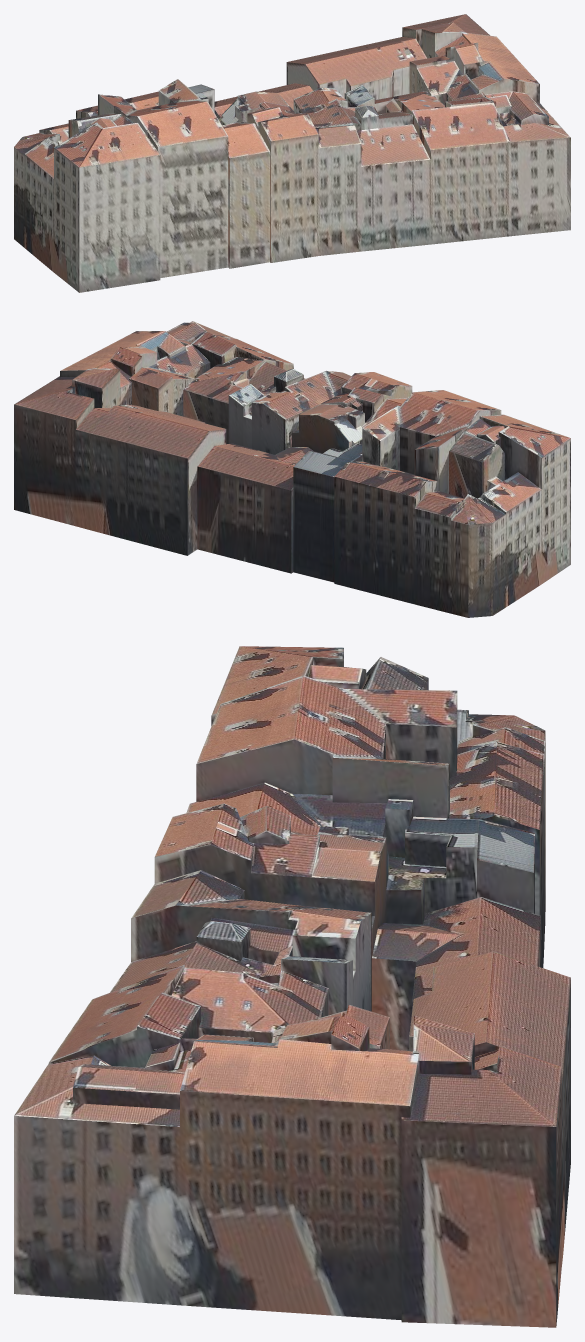
The model's file is LYON_1ER_00121.dae.
The picture shows the model from 3 angles, top to bottom: view 1: azimuth 30°, elevation 25°; view 2: azimuth 150°, elevation 25°; view 3: azimuth 270°, elevation 25°; orthographic projection. The views are drawn at different scales.
Size of the model in its own units: 103 by 55.15 by 30.76.
Materials: 2 (2 with a texture image).
